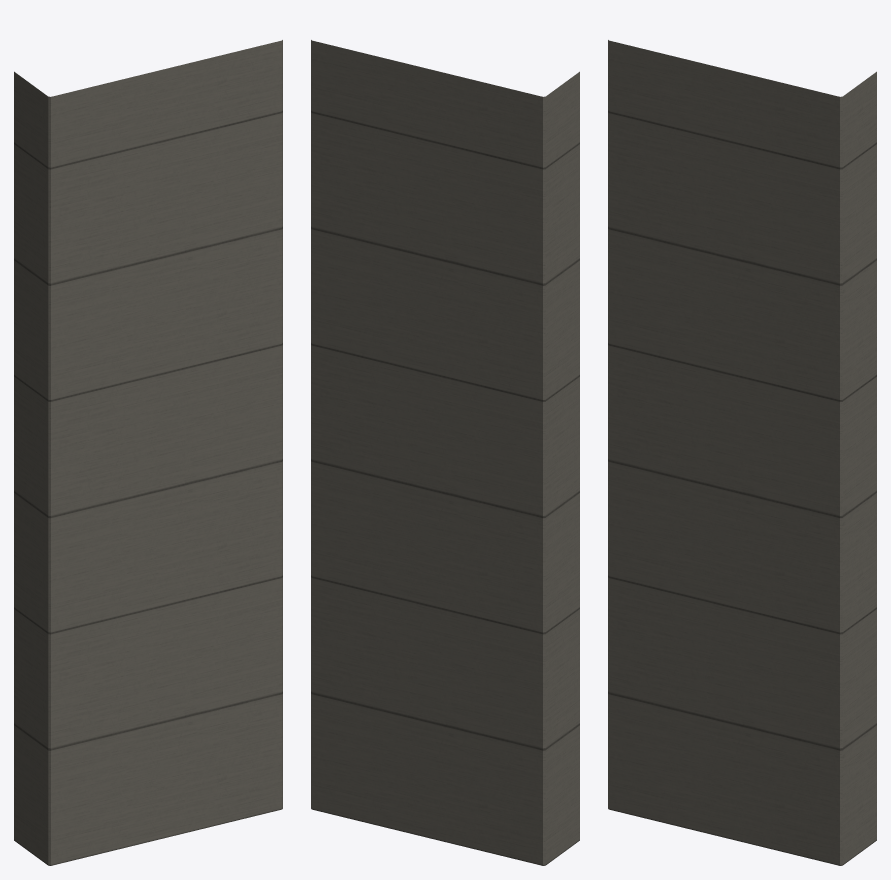
The model's file is SM_External_Column_04.glb.
3 renders of one model, left to right at view 1: azimuth 30°, elevation 25°; view 2: azimuth 150°, elevation 25°; view 3: azimuth 330°, elevation 25°, orthographic.
Parts seen in each view (by area): view 1: SM_External_Column_04; view 2: SM_External_Column_04; view 3: SM_External_Column_04.
Part boxes in pixels (left/top/right/bottom): SM_External_Column_04: left=14, top=40, right=282, bottom=865; SM_External_Column_04: left=311, top=40, right=579, bottom=865; SM_External_Column_04: left=608, top=40, right=876, bottom=865.
Size of the model in its own units: 1.5 by 4.7 by 0.4.
Materials: 1 (1 with a texture image).
